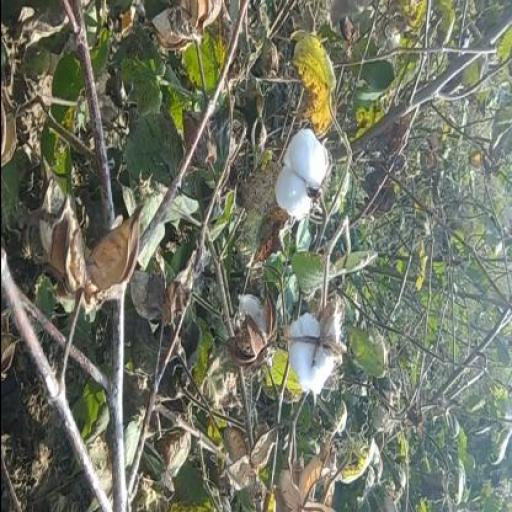cotton_ready: (279, 284, 343, 400), (271, 126, 332, 222)
